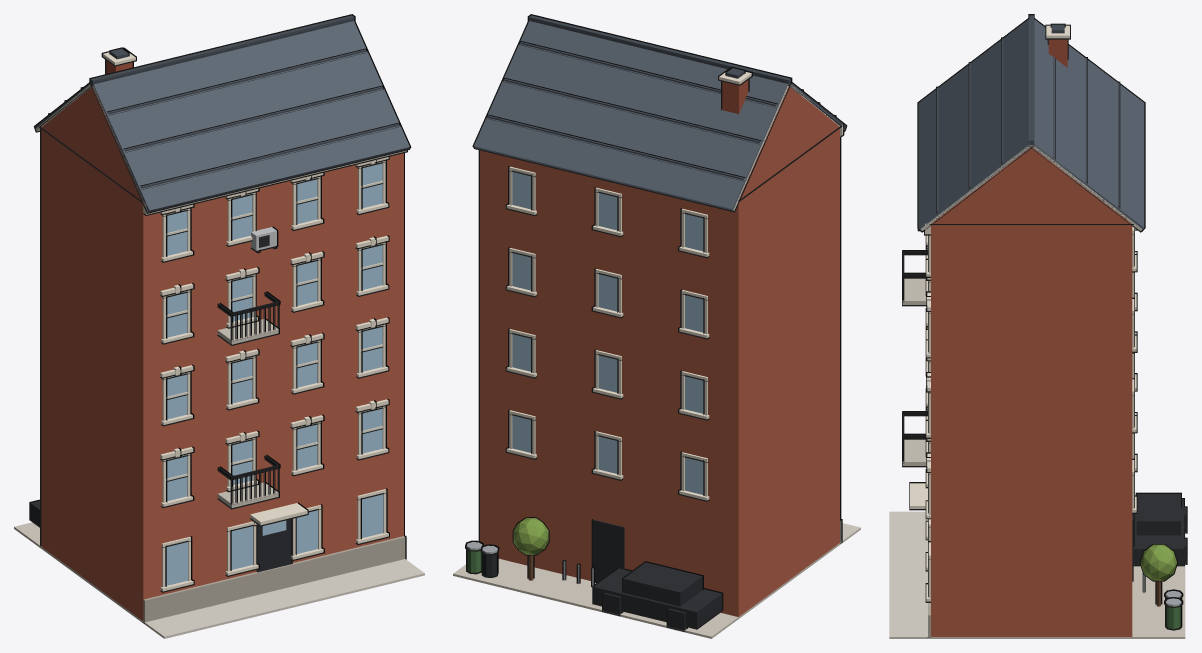
Rendered from Blok_duz_5k_5.fbx.
3 views of the same model, side by side, from view 1: azimuth 30°, elevation 25°; view 2: azimuth 150°, elevation 25°; view 3: azimuth 270°, elevation 25° (orthographic).
Visible parts, largest first — view 1: Blok_duz_5k_5; view 2: Blok_duz_5k_5; view 3: Blok_duz_5k_5.
Boxes of the visible parts, x1,y1,x2,y2 form: Blok_duz_5k_5: [14, 14, 424, 638]; Blok_duz_5k_5: [453, 14, 860, 638]; Blok_duz_5k_5: [889, 14, 1187, 638].
Size of the model in its own units: 10.14 by 18.89 by 10.07.
